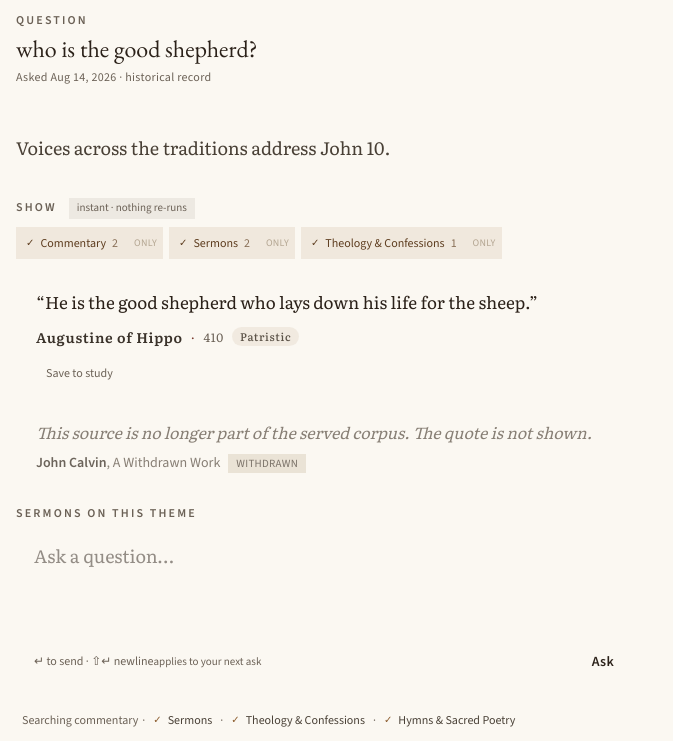
Test case: §4.7 Show filter + stored-thread rendering (variant A) › hiding Commentary hides the framing paragraph with it (deviation D3)
Expected: the text "Voices across the traditions address John 10." is shown, [16,134,390,161]
Click the button "✓ Commentary 2": (72, 243) [16,227,128,259]
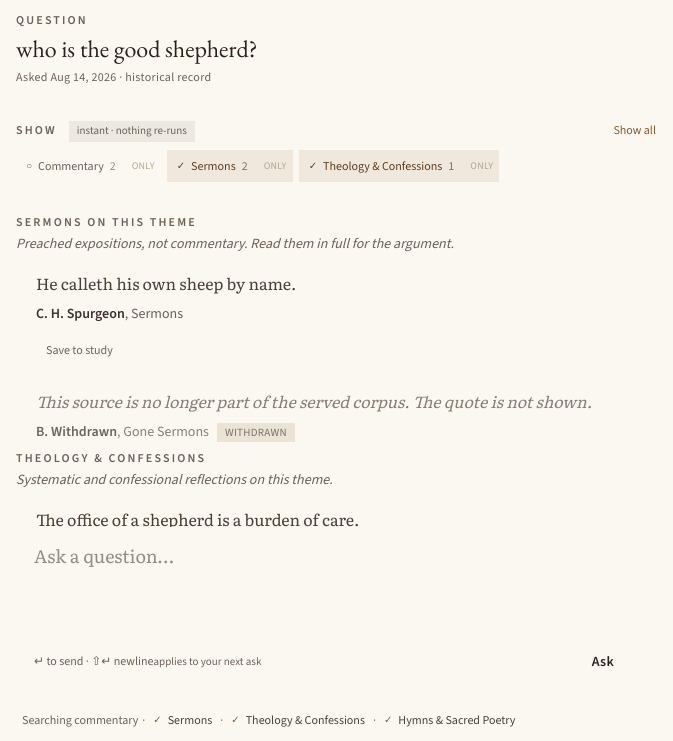
Now the text "Voices across the traditions" is gone
